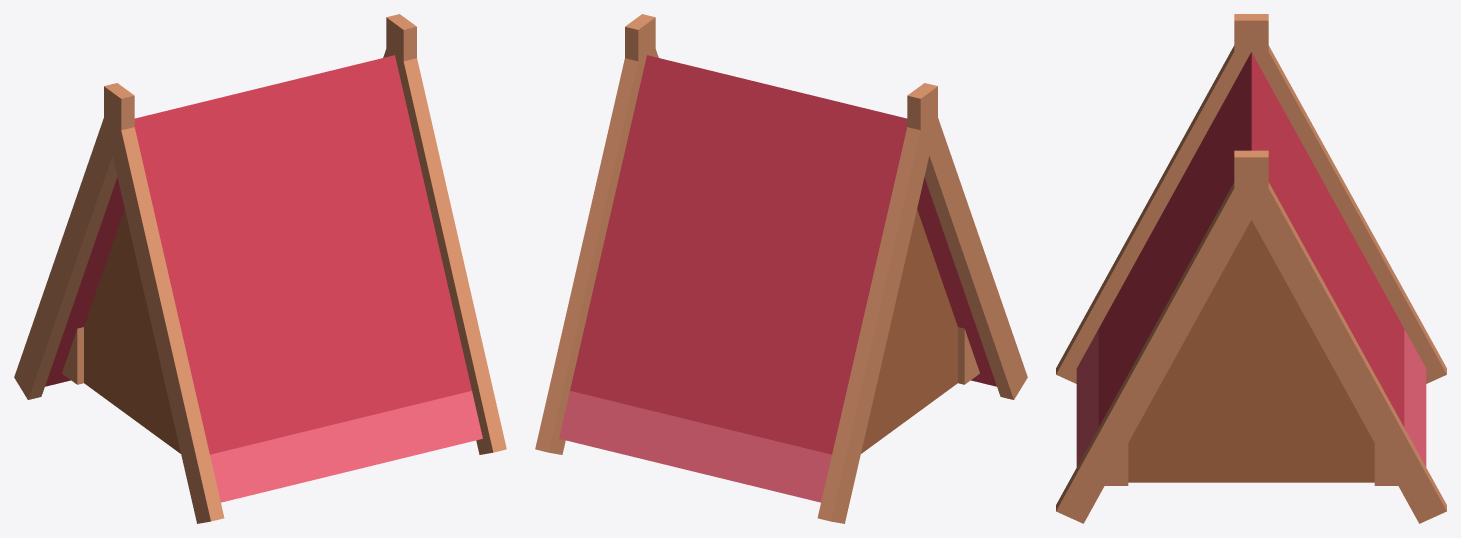
File: roofHighGableDetail.obj
3 renders of one model, left to right at view 1: azimuth 30°, elevation 25°; view 2: azimuth 150°, elevation 25°; view 3: azimuth 270°, elevation 25°, orthographic.
Parts seen in each view (by area): view 1: roofHighGableDetail; view 2: roofHighGableDetail; view 3: roofHighGableDetail.
Boxes of the visible parts, box(x1,y1,x2,y2) form: roofHighGableDetail: box(14, 14, 506, 523); roofHighGableDetail: box(535, 14, 1027, 523); roofHighGableDetail: box(1056, 14, 1446, 523).
Size of the model in its own units: 1.1 by 1.31 by 1.27.
